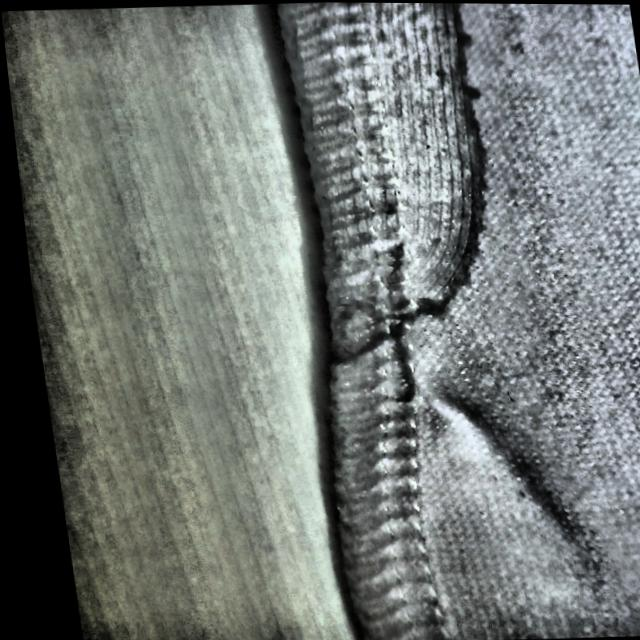seam: (272, 2, 567, 317)
